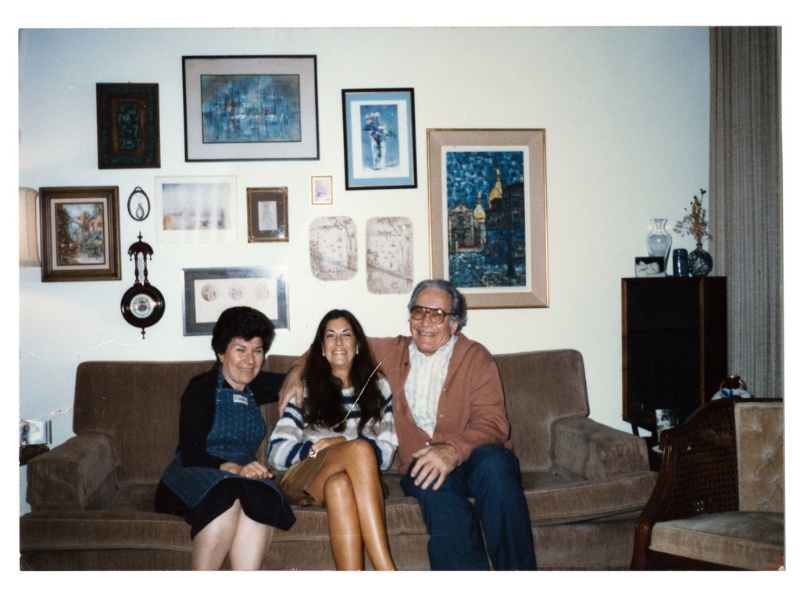couch: (24, 356, 655, 576)
